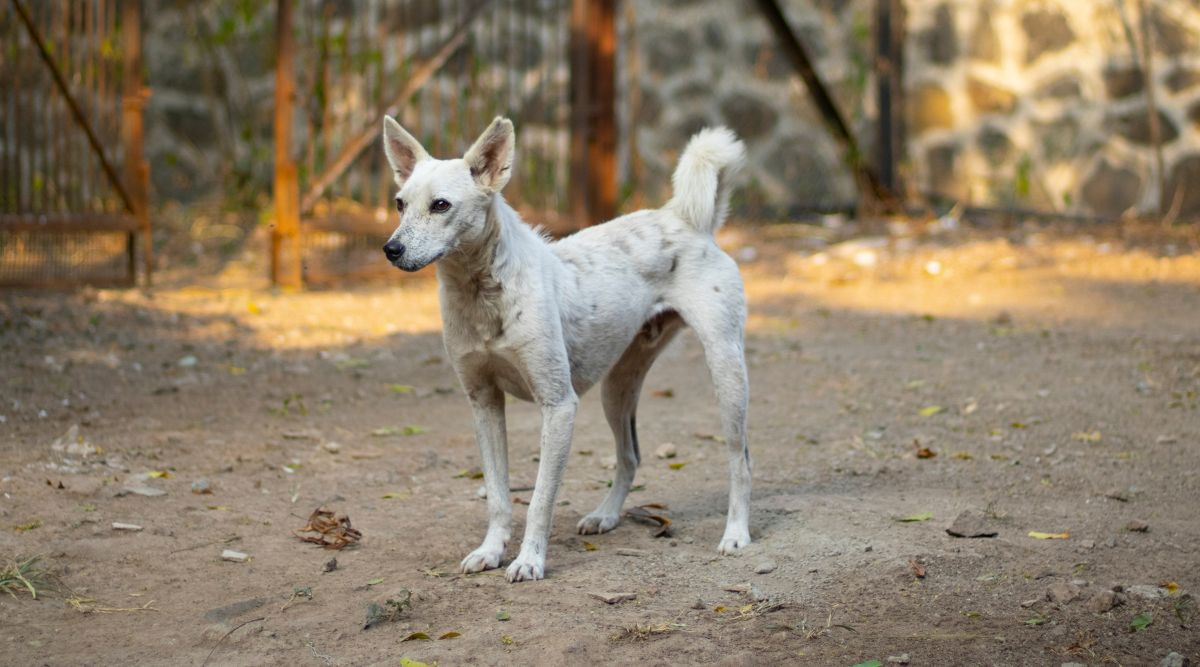Dog: (326, 100, 817, 595)
